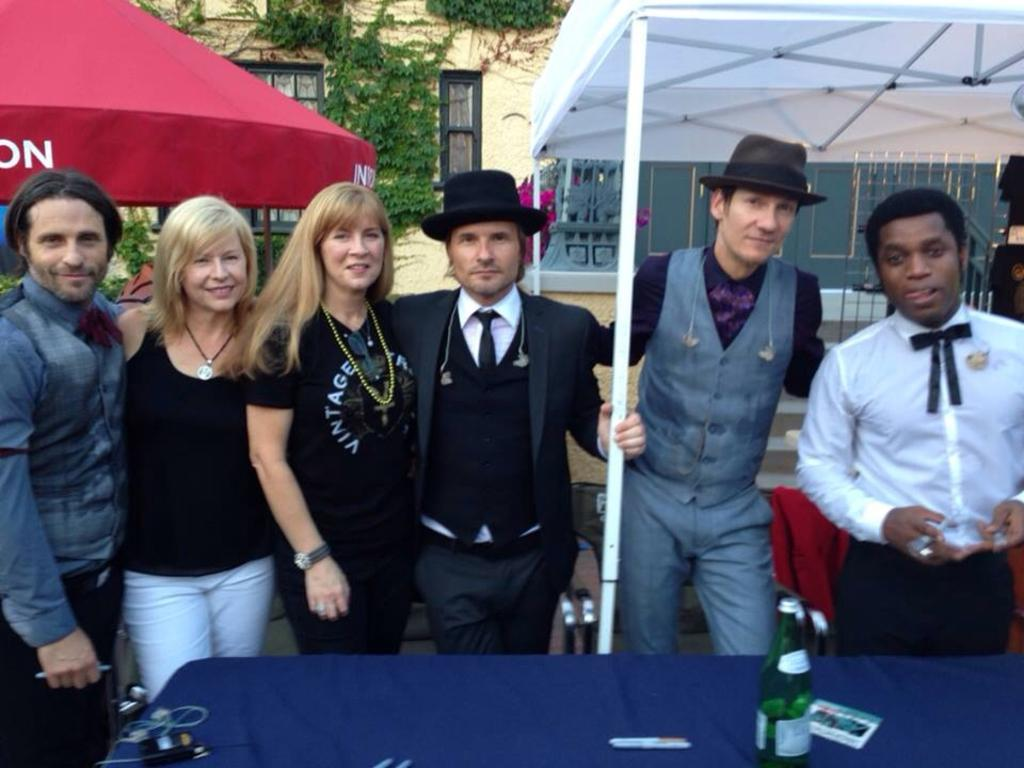Hat: (421, 168, 552, 244), (704, 137, 830, 210)
